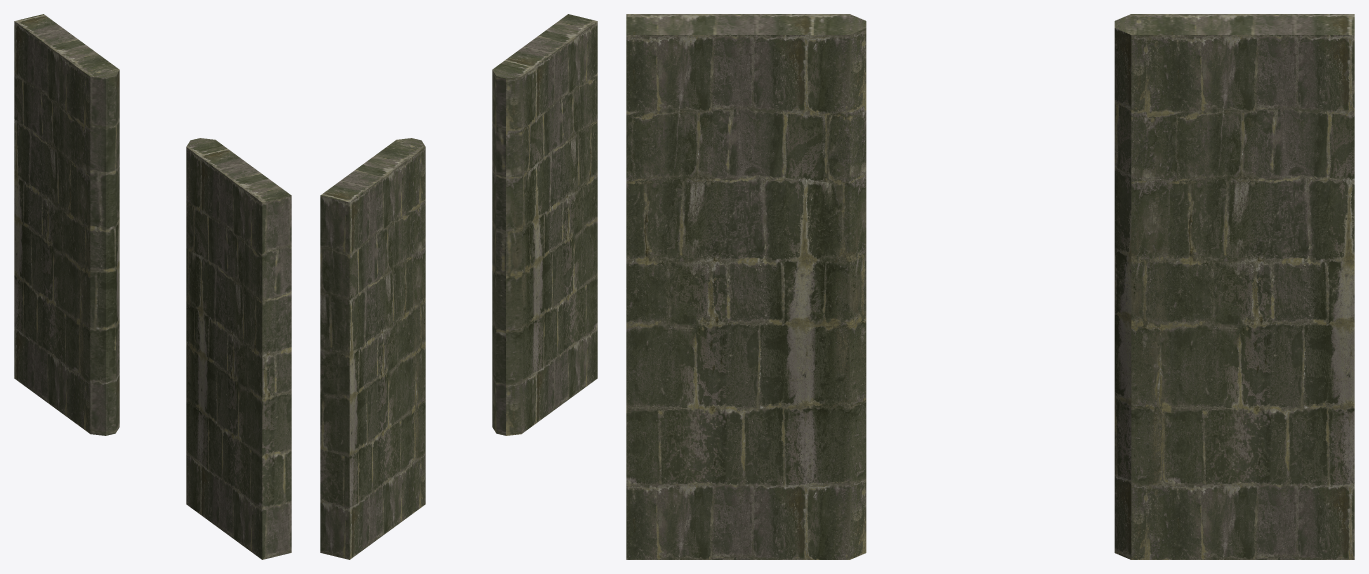
Rendered from Wall_Arch_Pier.fbx.
3 renders of one model, left to right at view 1: azimuth 30°, elevation 25°; view 2: azimuth 150°, elevation 25°; view 3: azimuth 270°, elevation 25°, orthographic. The views are drawn at different scales.
Visible parts, largest first — view 1: DoubleDoorway.004; view 2: DoubleDoorway.004; view 3: DoubleDoorway.004.
Boxes of the visible parts, box(x1,y1,x2,y2) form: DoubleDoorway.004: box(14, 14, 291, 559); DoubleDoorway.004: box(320, 14, 597, 559); DoubleDoorway.004: box(626, 14, 1354, 559).
Size of the model in its own units: 51 by 595 by 748.
